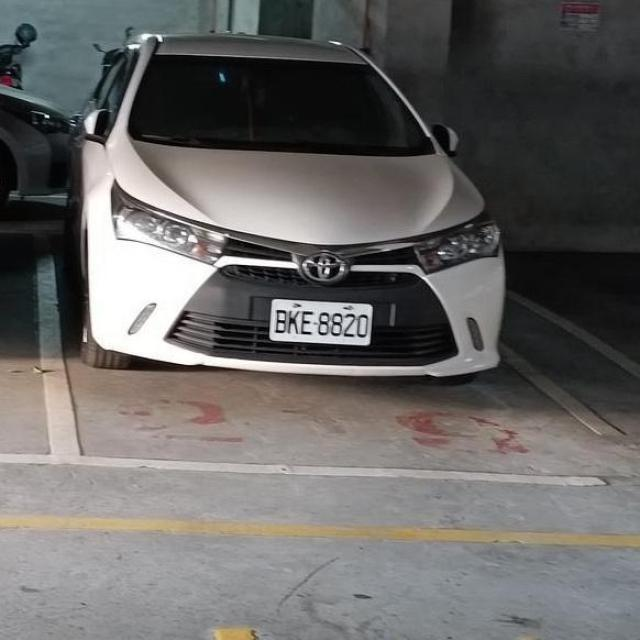W: (258, 289, 383, 356)
